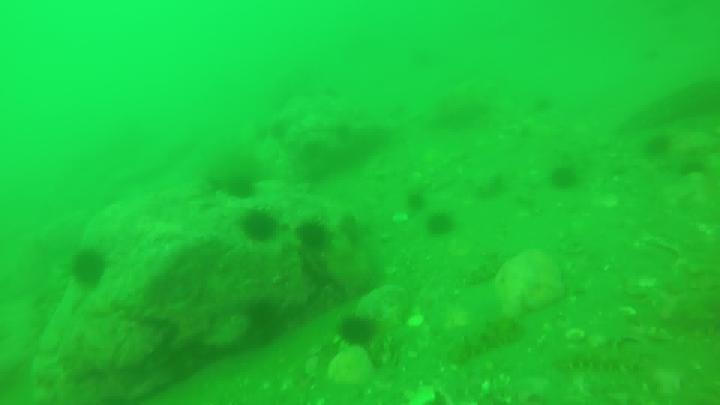echinus: (70, 246, 108, 287), (339, 314, 379, 347), (244, 209, 280, 245), (295, 219, 334, 248), (426, 211, 458, 237), (226, 174, 256, 200), (648, 135, 674, 159), (552, 169, 578, 189), (408, 194, 428, 209)
holothurian: (442, 317, 525, 362), (556, 349, 646, 376), (460, 249, 519, 282)
scallop: (566, 328, 586, 341), (621, 306, 637, 320)
